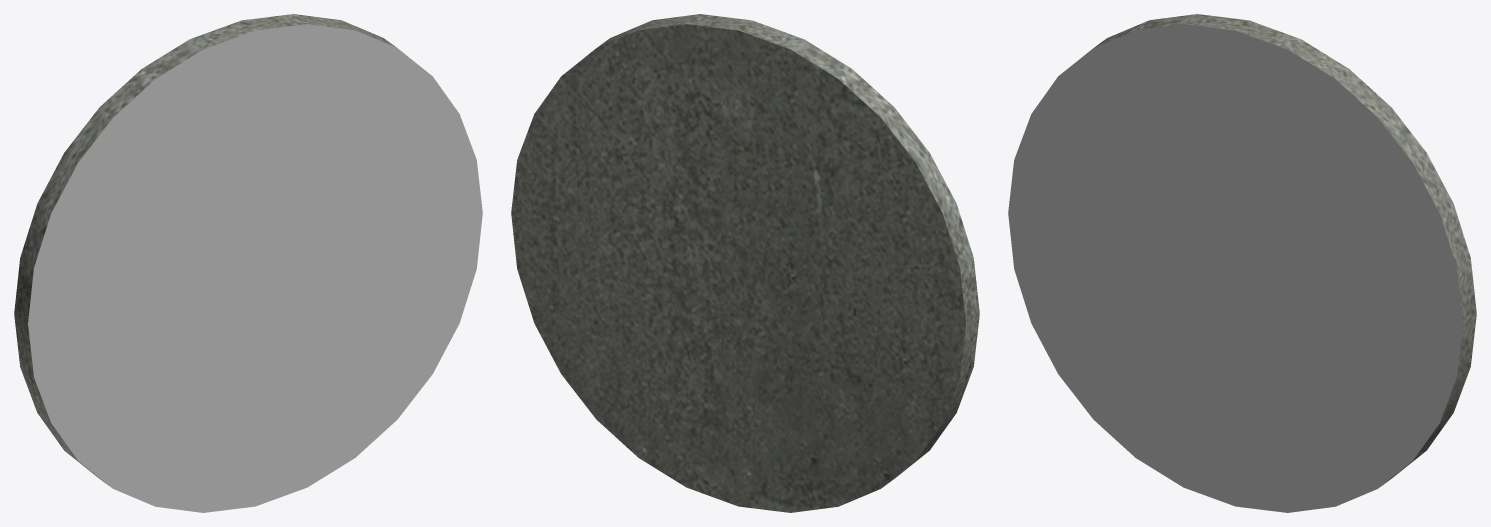
Rendered from DT_Sign_28.fbx.
3 renders of one model, left to right at view 1: azimuth 30°, elevation 25°; view 2: azimuth 150°, elevation 25°; view 3: azimuth 330°, elevation 25°, orthographic.
Parts seen in each view (by area): view 1: DT_Sign_28; view 2: DT_Sign_28; view 3: DT_Sign_28.
Boxes of the visible parts, x1,y1,x2,y2 form: DT_Sign_28: [14, 14, 482, 512]; DT_Sign_28: [511, 14, 979, 512]; DT_Sign_28: [1008, 14, 1476, 512].
Bounding box in the file's own units: 95.05 × 95.05 × 5.
